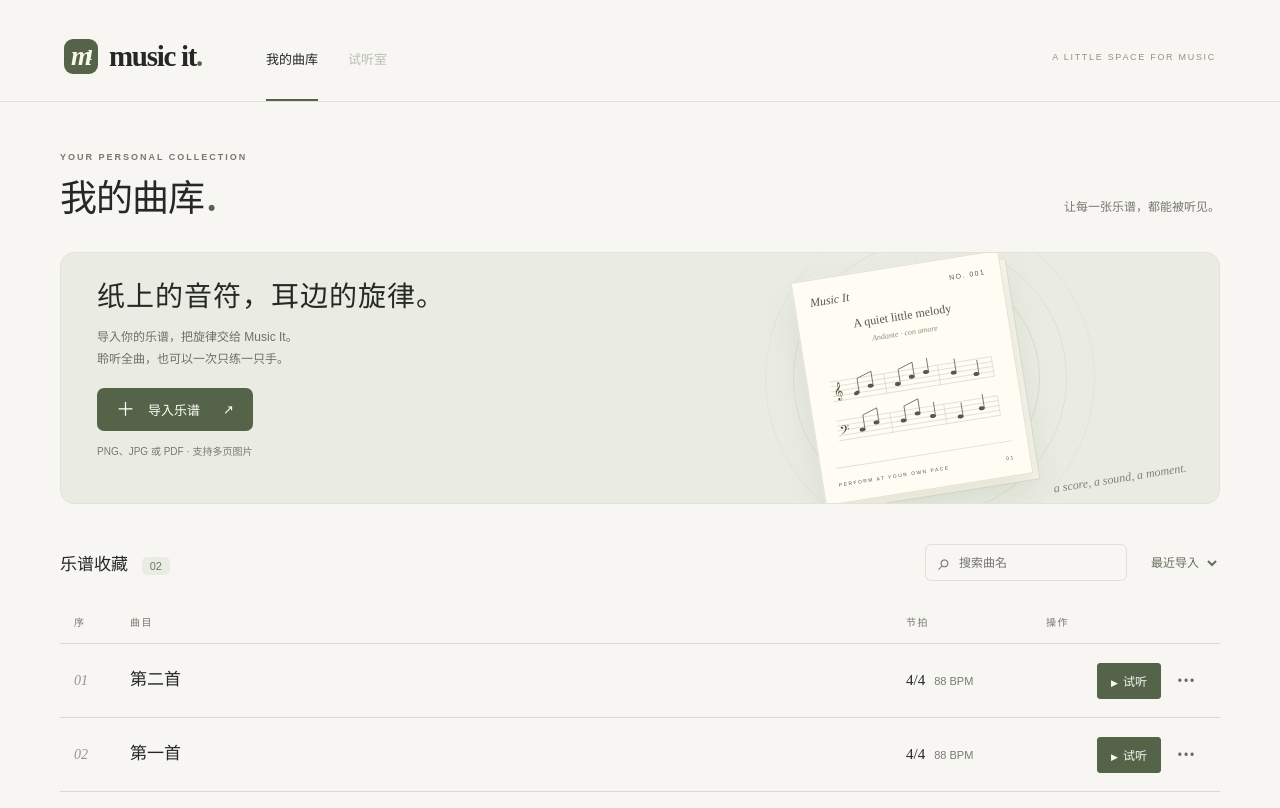
Test: App › renders only the last score when open requests finish out of order
The width and height of the screenshot is (1280, 808).
Click the button with test id "catalog-select-first" at (156,755), box [130,735,181,774]
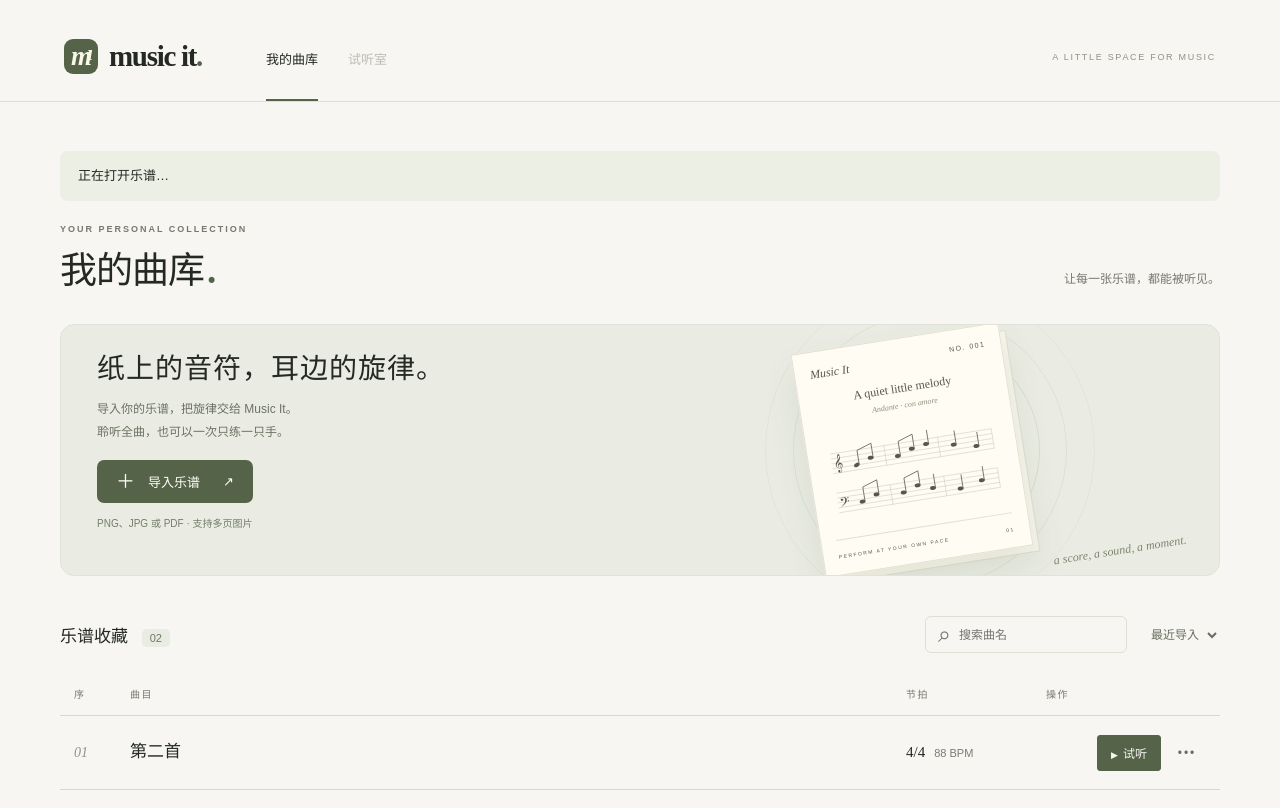
Click the button with test id "catalog-select-second" at (156,753), box [130,733,181,772]
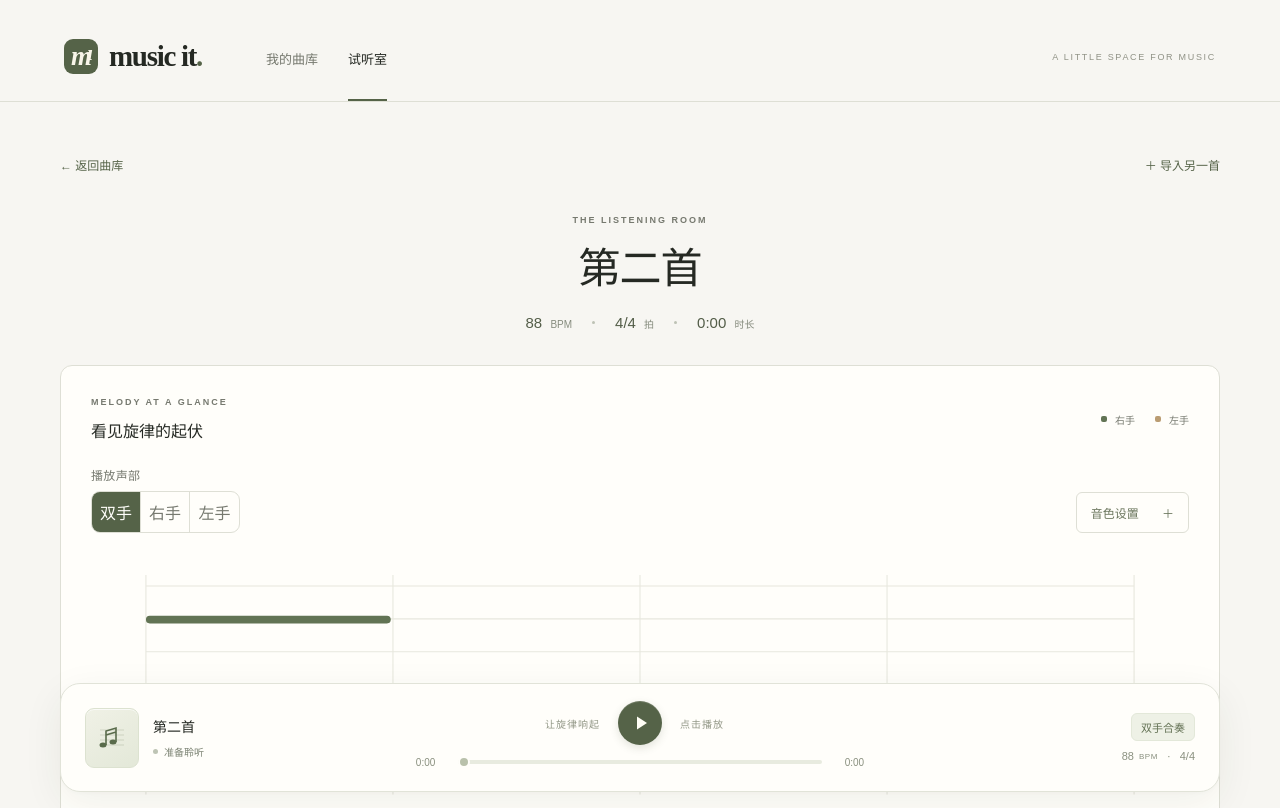
Expected: the heading "第二首" is shown, [578,246,702,292]
